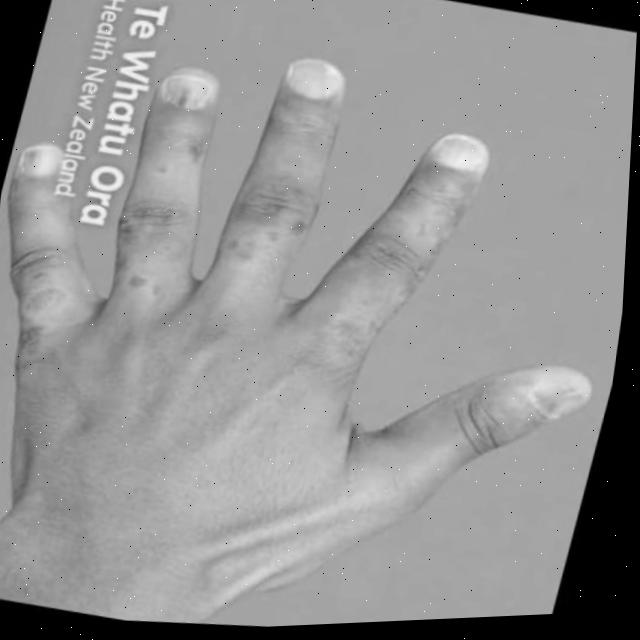Eczema: (320, 214, 433, 373), (211, 160, 328, 301), (102, 155, 189, 327), (22, 243, 65, 329)
